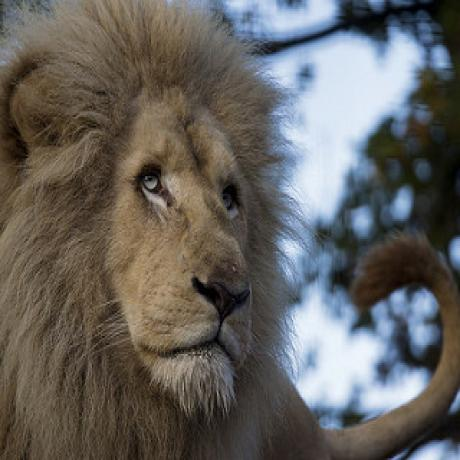Lion: (0, 0, 330, 460)
